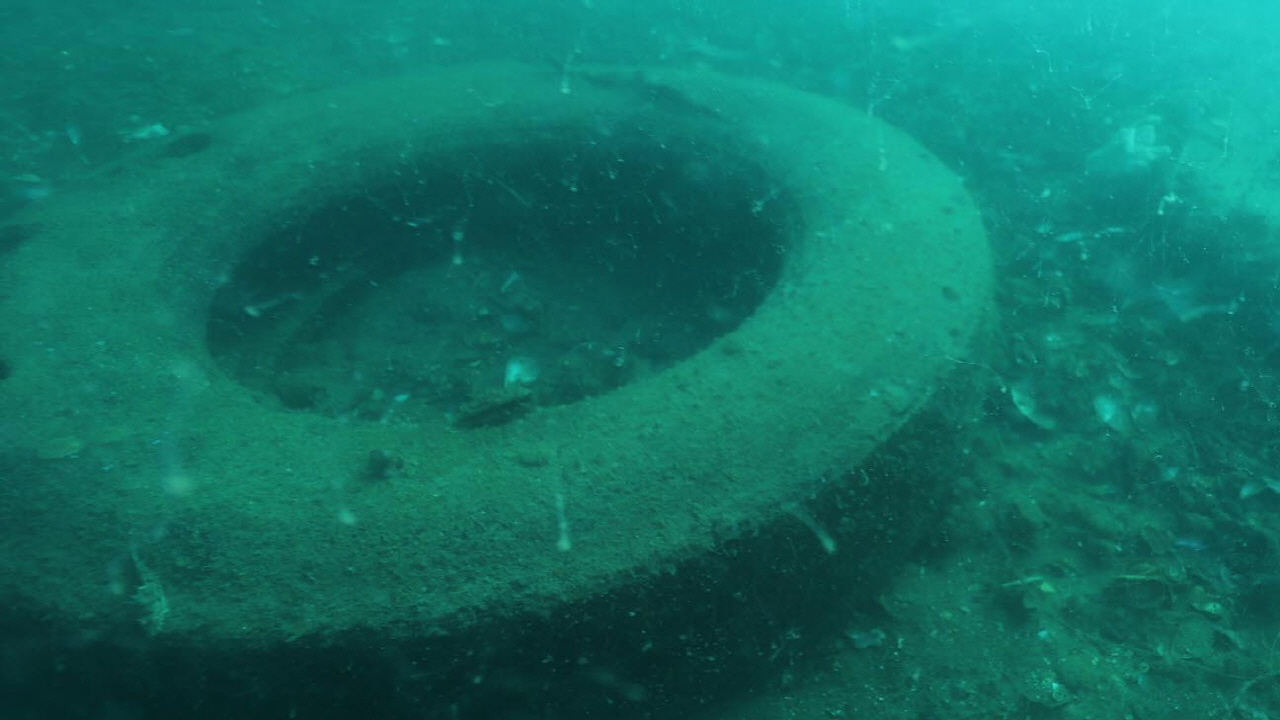tire: (0, 61, 993, 705)
